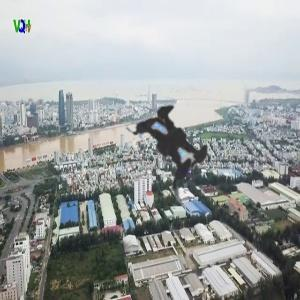drone: (81, 48, 263, 230)
